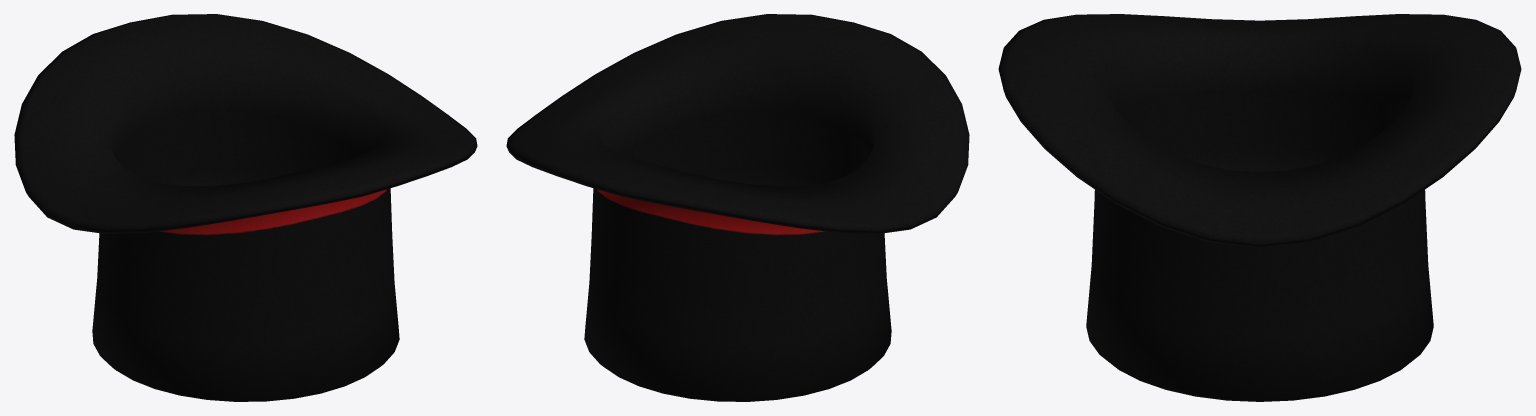
File: Hat.fbx
3 renders of one model, left to right at view 1: azimuth 30°, elevation 25°; view 2: azimuth 150°, elevation 25°; view 3: azimuth 270°, elevation 25°, orthographic. The views are drawn at different scales.
Parts seen in each view (by area): view 1: Hat; view 2: Hat; view 3: Hat.
Boxes of the visible parts, x1,y1,x2,y2 form: Hat: (14,14,477,401); Hat: (506,14,969,401); Hat: (998,14,1521,401).
Bounding box in the file's own units: 10.15 × 5.63 × 10.1.
